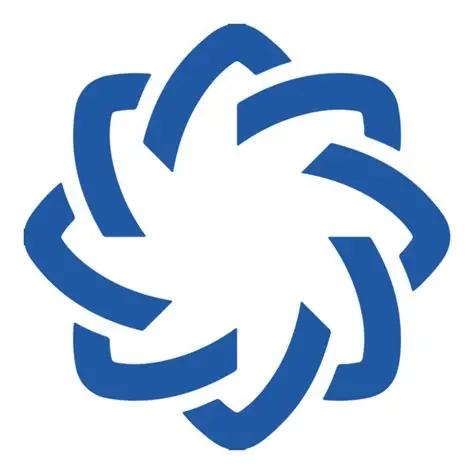ABB: (20, 21, 456, 455)
